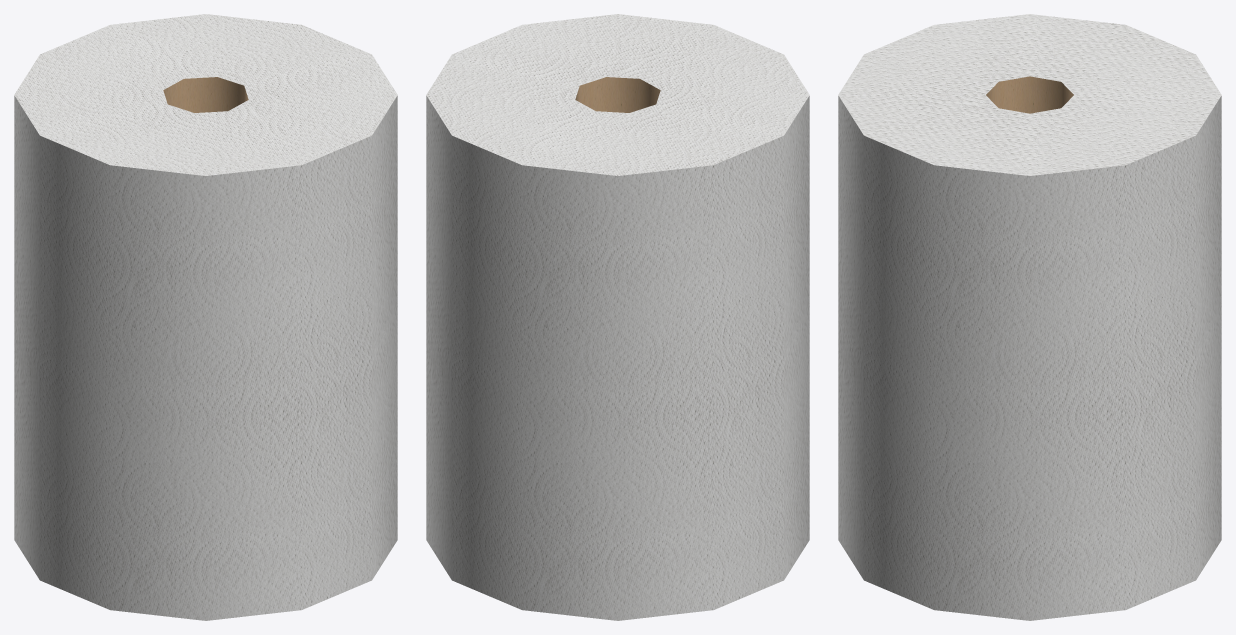
File: paperTowelRoll.FBX
3 views of the same model, side by side, from view 1: azimuth 30°, elevation 25°; view 2: azimuth 150°, elevation 25°; view 3: azimuth 270°, elevation 25° (orthographic).
Visible parts, largest first — view 1: paperTowel001; view 2: paperTowel001; view 3: paperTowel001.
Part boxes in pixels (x1,y1,x2,y2): paperTowel001: (14, 14, 397, 620); paperTowel001: (426, 14, 809, 620); paperTowel001: (838, 14, 1221, 620).
Size of the model in its own units: 0.2188 by 0.28 by 0.2188.
2 materials, 2 textured.
